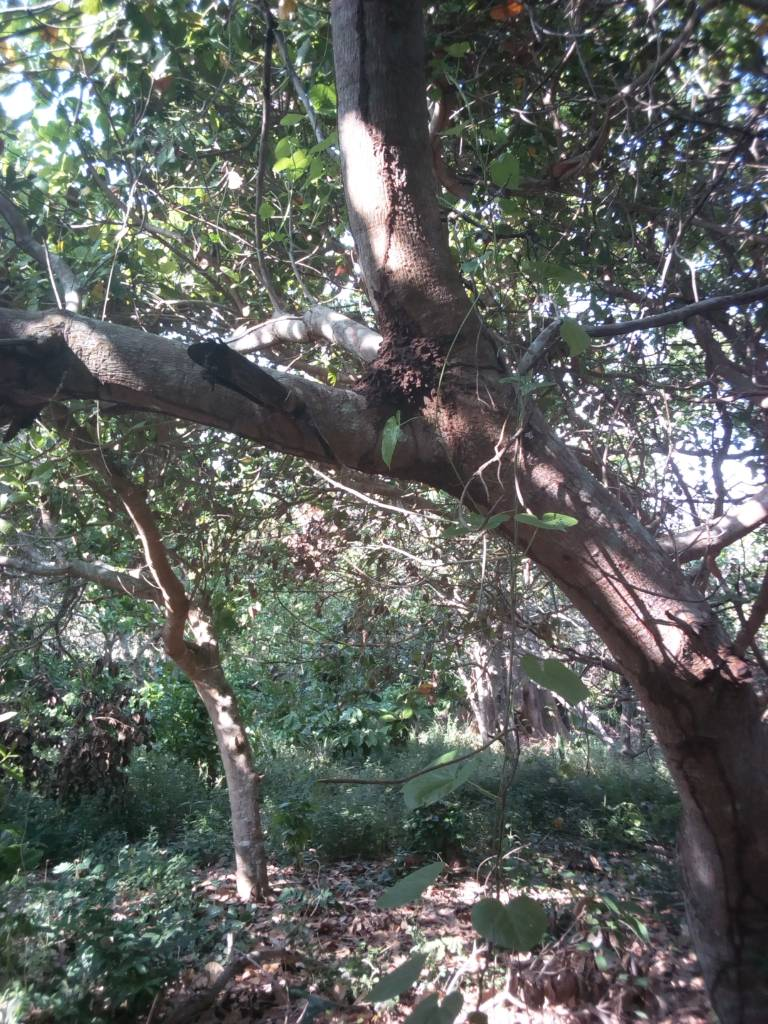Termites: (363, 32, 474, 453)
